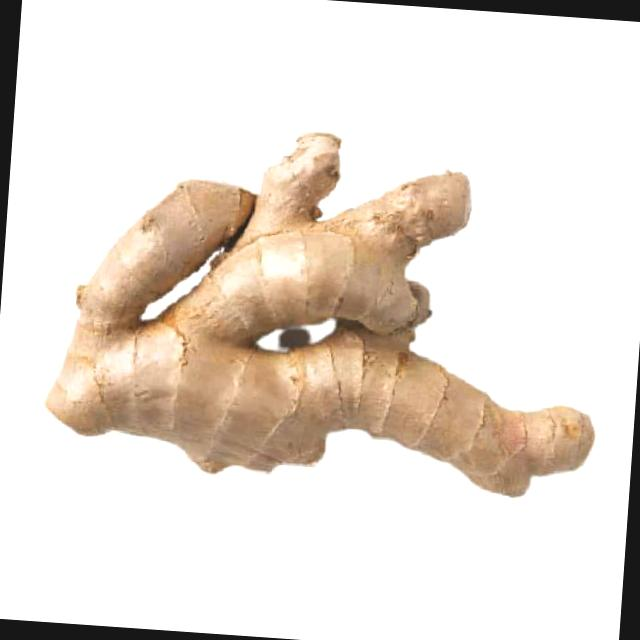ginger-root: (27, 102, 632, 551)
